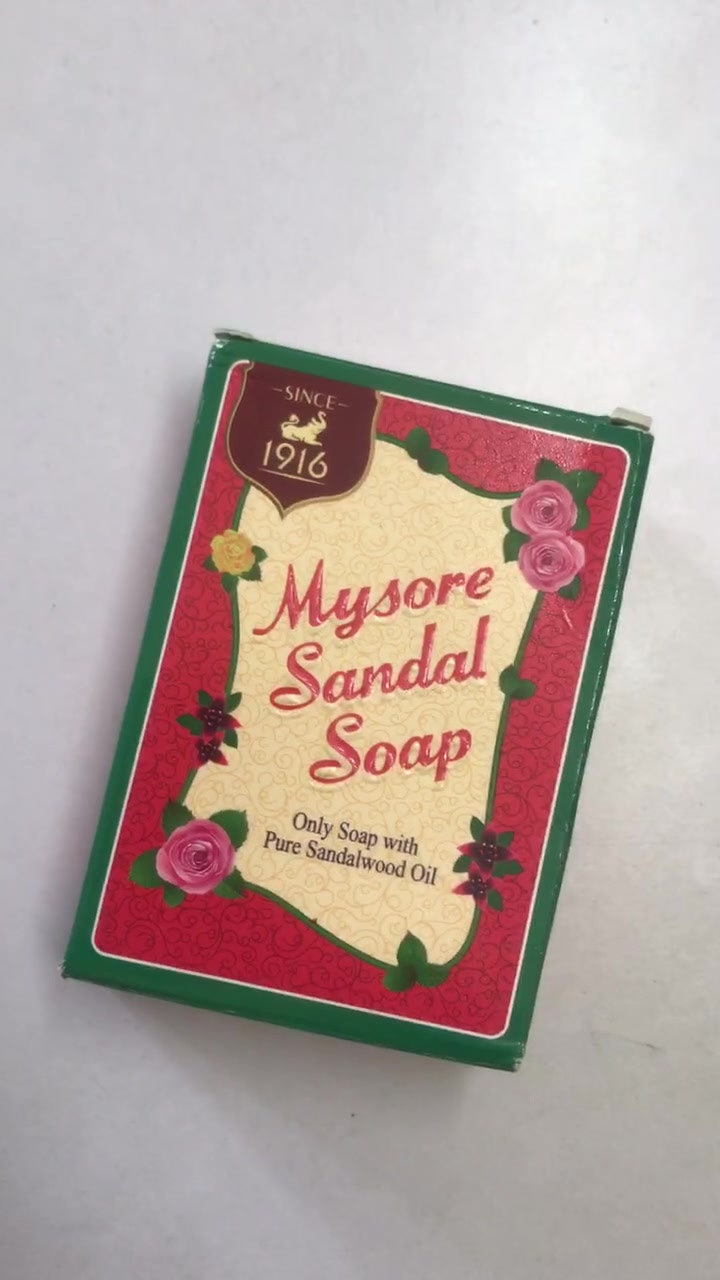mysore sandal soap: (64, 331, 651, 1073)
